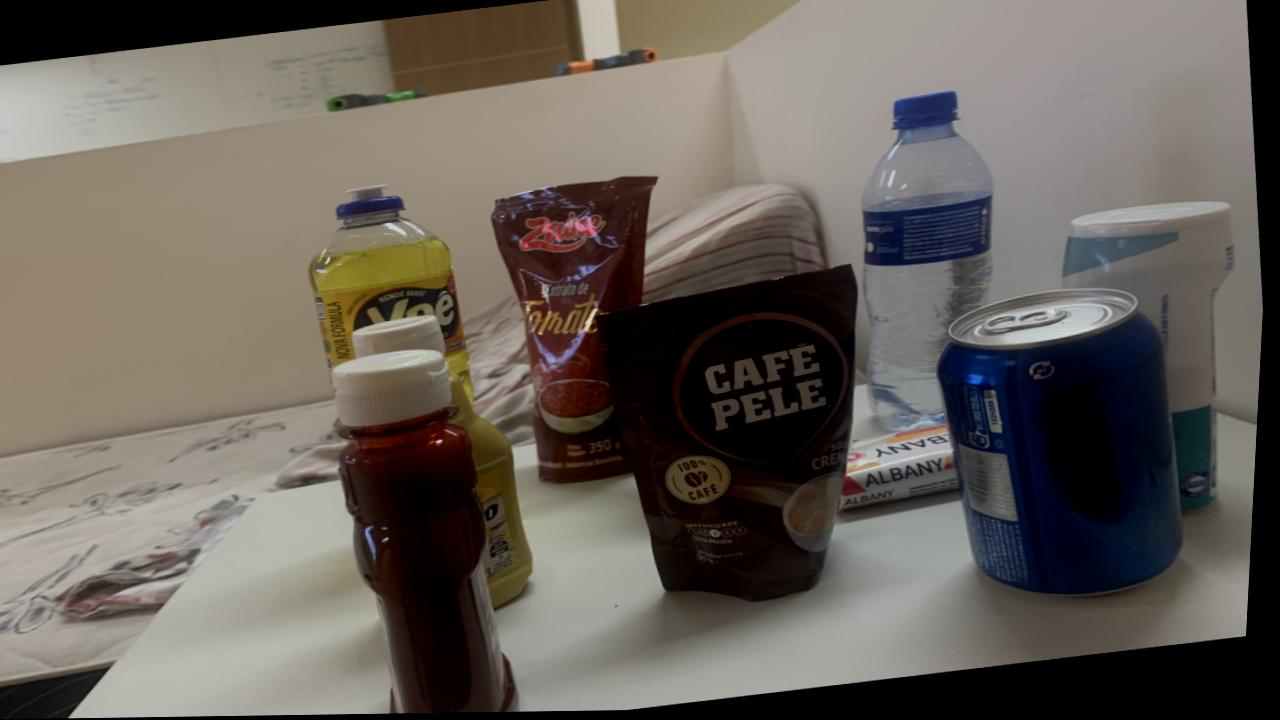Cleaner-Cleanup_Items: (1065, 204, 1239, 514)
Coffee-Pantry_Items: (601, 268, 861, 603)
Detergent-Cleanup_Items: (313, 188, 477, 395)
Ketchup-Pantry_Items: (337, 349, 525, 715)
Mustard-Pantry_Items: (453, 374, 539, 607), (355, 316, 449, 358)
Soap-Cleanup_Items: (844, 428, 964, 511)
Tomato_Sauce-Pantry_Items: (493, 177, 660, 485)
Tonic-Drinks: (941, 291, 1189, 598)
Water_Bottle-Drinks: (864, 94, 995, 432)
